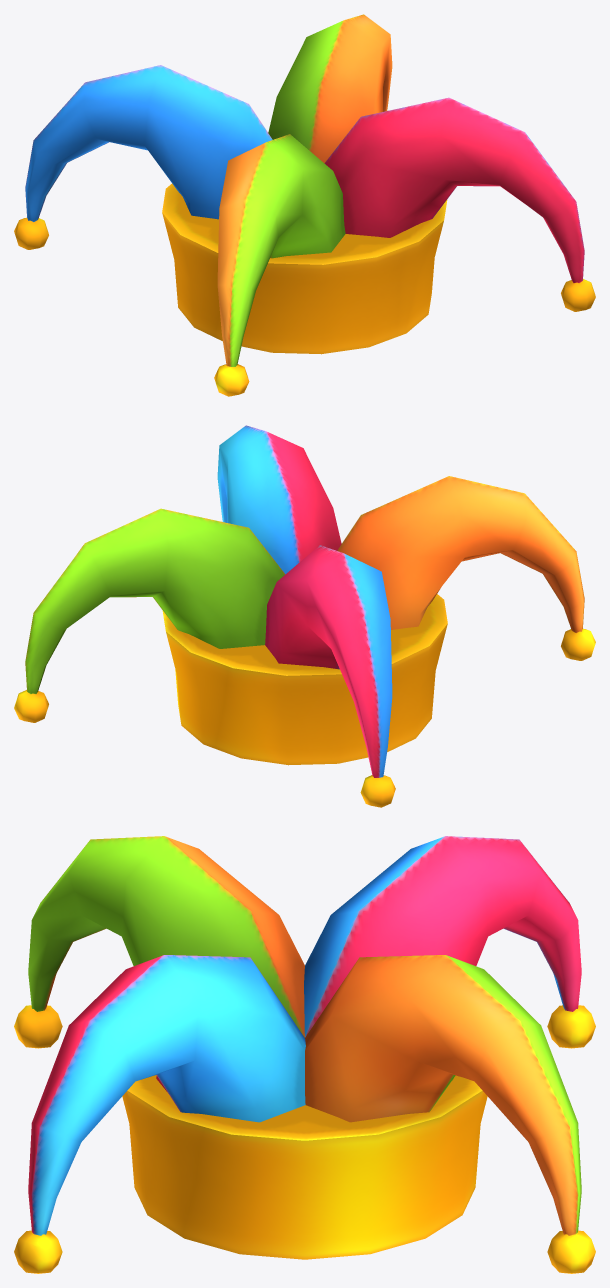
Rendered from obj_toy14.gltf.
The picture shows the model from 3 angles, top to bottom: view 1: azimuth 30°, elevation 25°; view 2: azimuth 150°, elevation 25°; view 3: azimuth 270°, elevation 25°; orthographic projection. The views are drawn at different scales.
Visible parts, largest first — view 1: obj_toy14; view 2: obj_toy14; view 3: obj_toy14.
Part boxes in pixels (box(x1,y1,x2,y2)): obj_toy14: box(14, 14, 595, 396); obj_toy14: box(14, 425, 595, 807); obj_toy14: box(14, 836, 595, 1273).
Bounding box in the file's own units: 0.4844 × 0.2684 × 0.4844.
1 material, 1 textured.
